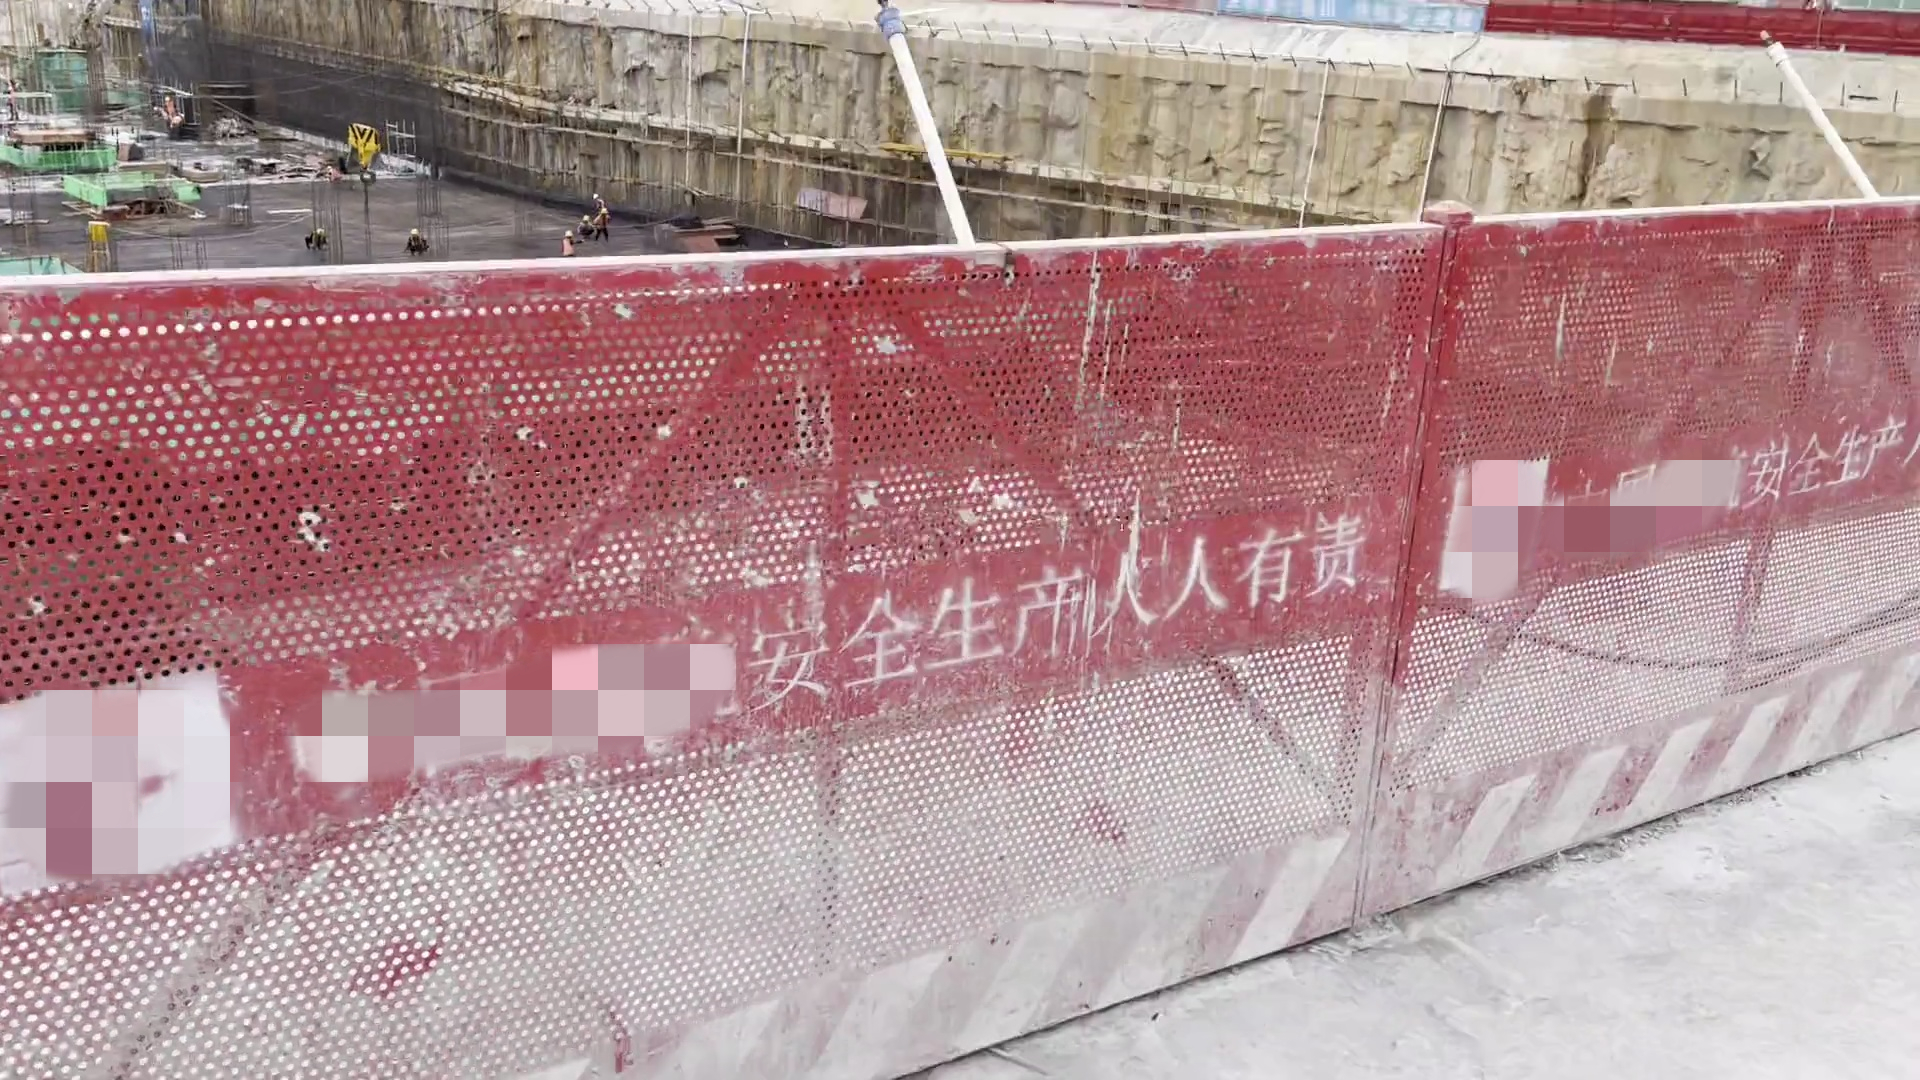fence: (1, 200, 1915, 1080)
slogan: (756, 500, 1394, 715), (1747, 415, 1920, 520), (1093, 1, 1470, 40)
